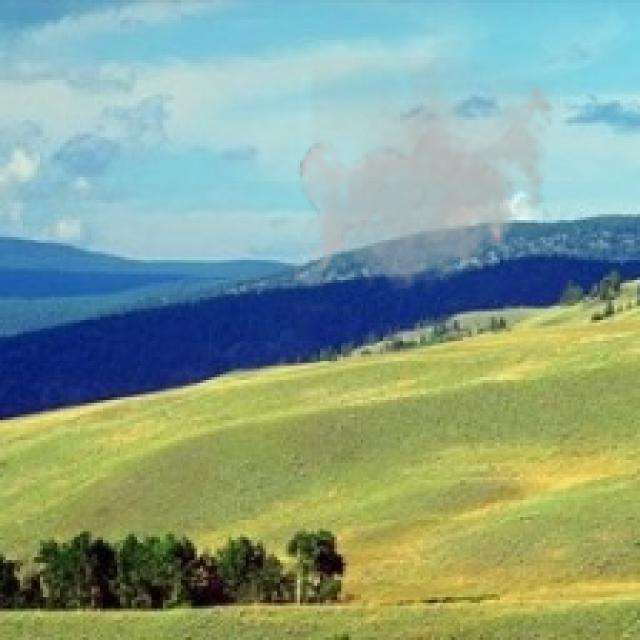smoke: (294, 57, 563, 300)
